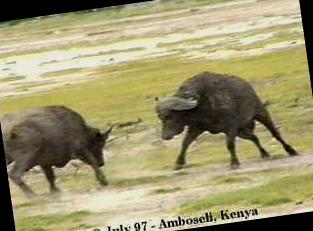Buffalo: (120, 66, 308, 198)
